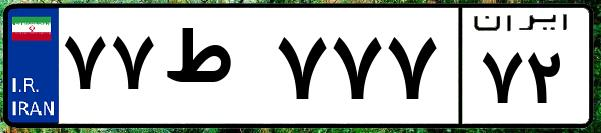2: (525, 38, 570, 115)
7: (270, 28, 330, 110), (385, 28, 445, 110), (330, 28, 385, 110), (57, 26, 110, 100), (475, 38, 525, 113), (110, 28, 158, 98)
ط: (158, 20, 270, 120)
